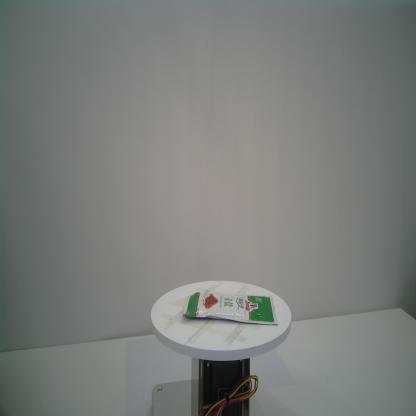Seasoner: (181, 290, 279, 326)
